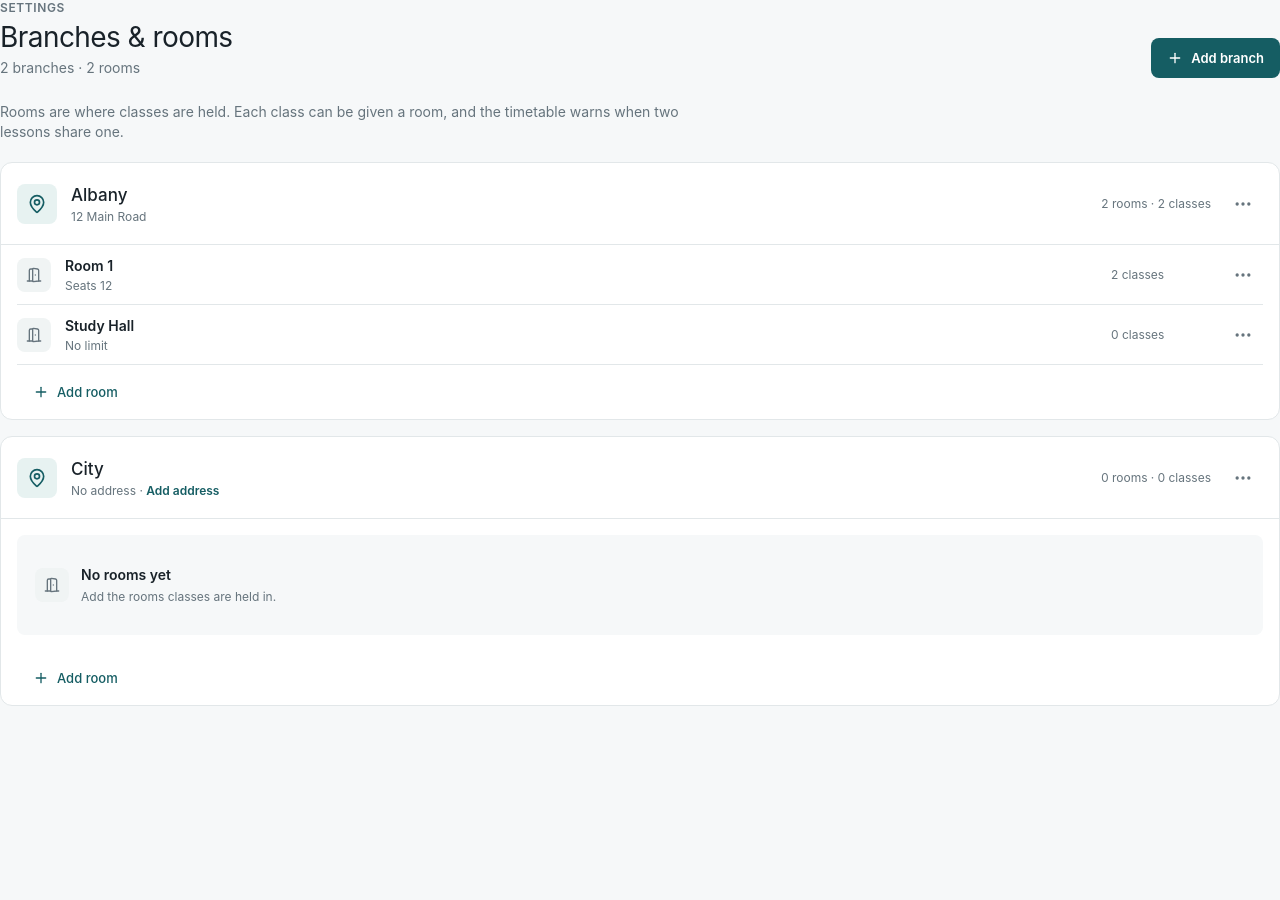
Test: deleting › names the classes held in a room before it can go
Click the button named "Actions for Room 1": (1243, 274) [1223, 254, 1263, 294]
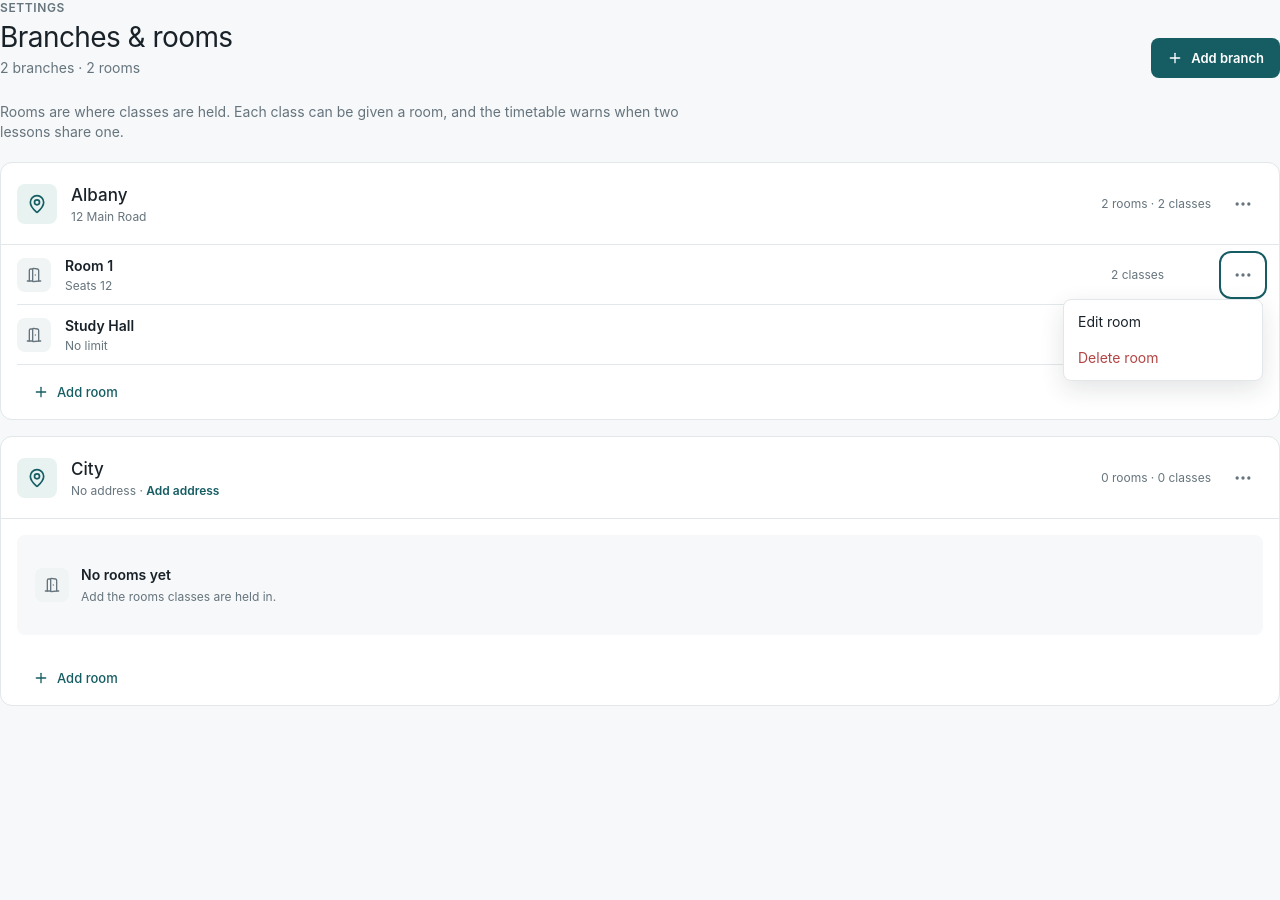
Click the menu item "Delete room": (1163, 358) [1068, 340, 1258, 376]
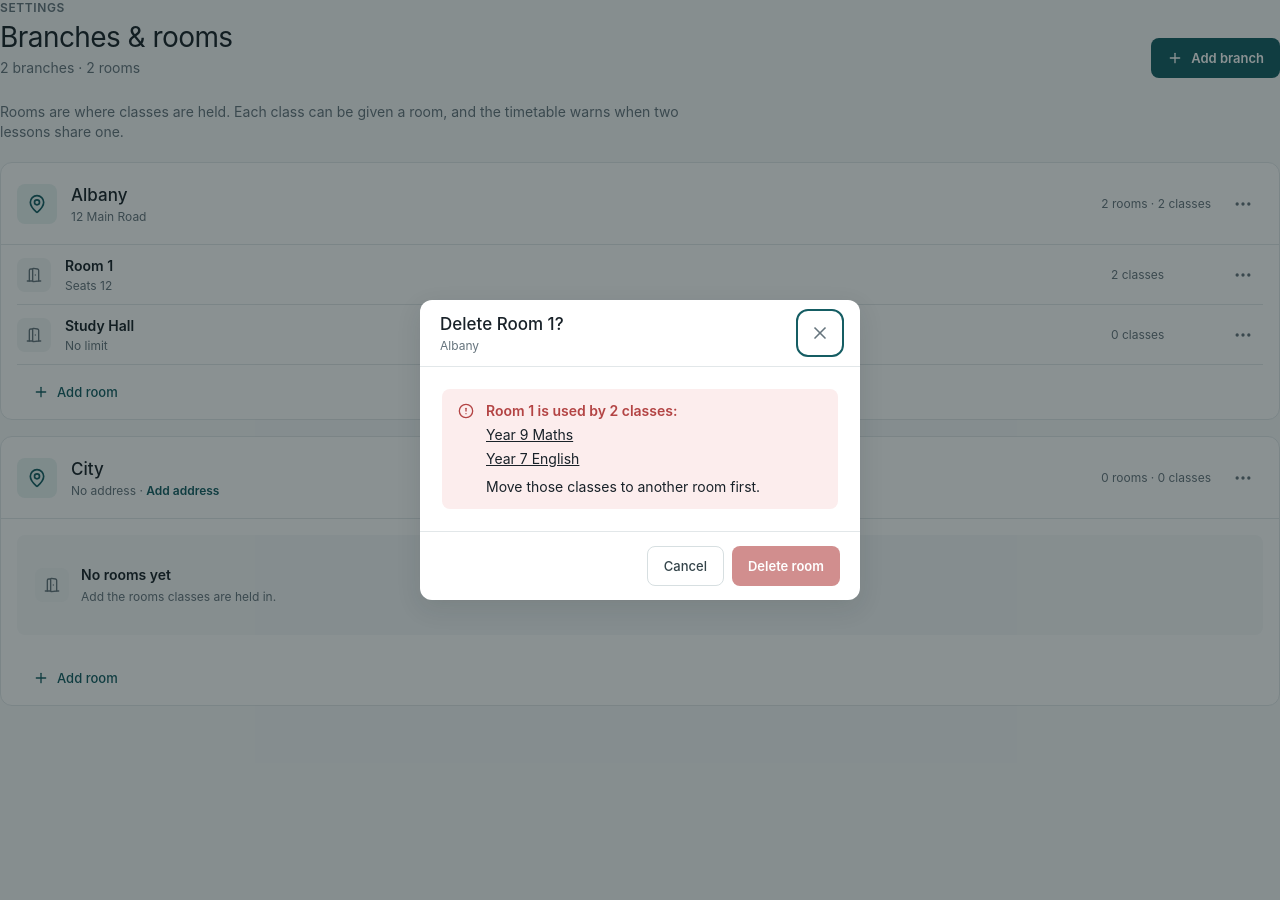
Expected: the button "Delete room" is disabled, [732, 546, 840, 586]
Click the button "Cancel": (685, 566) [647, 546, 724, 586]
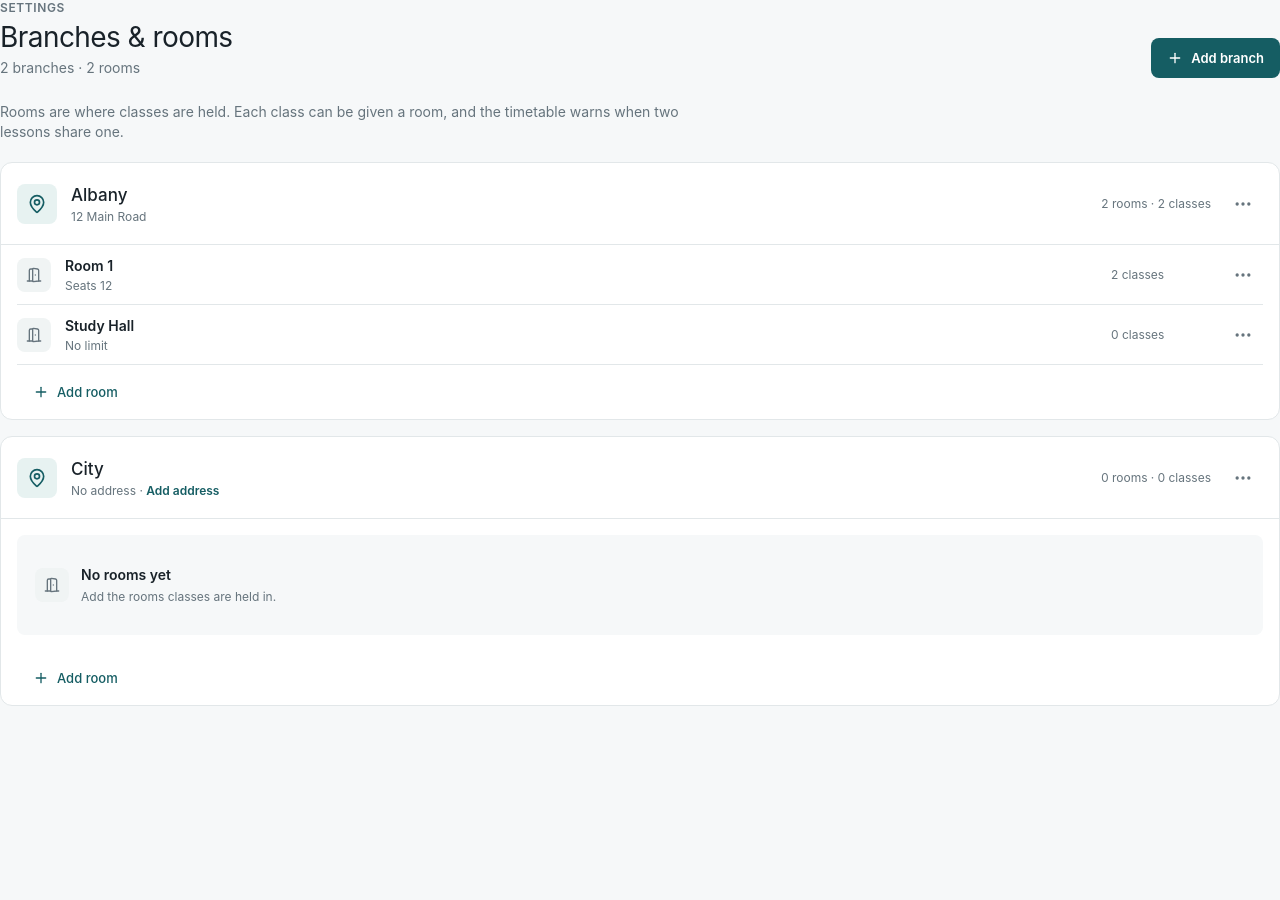
Click the button named "Actions for Study Hall": (1243, 334) [1223, 314, 1263, 354]
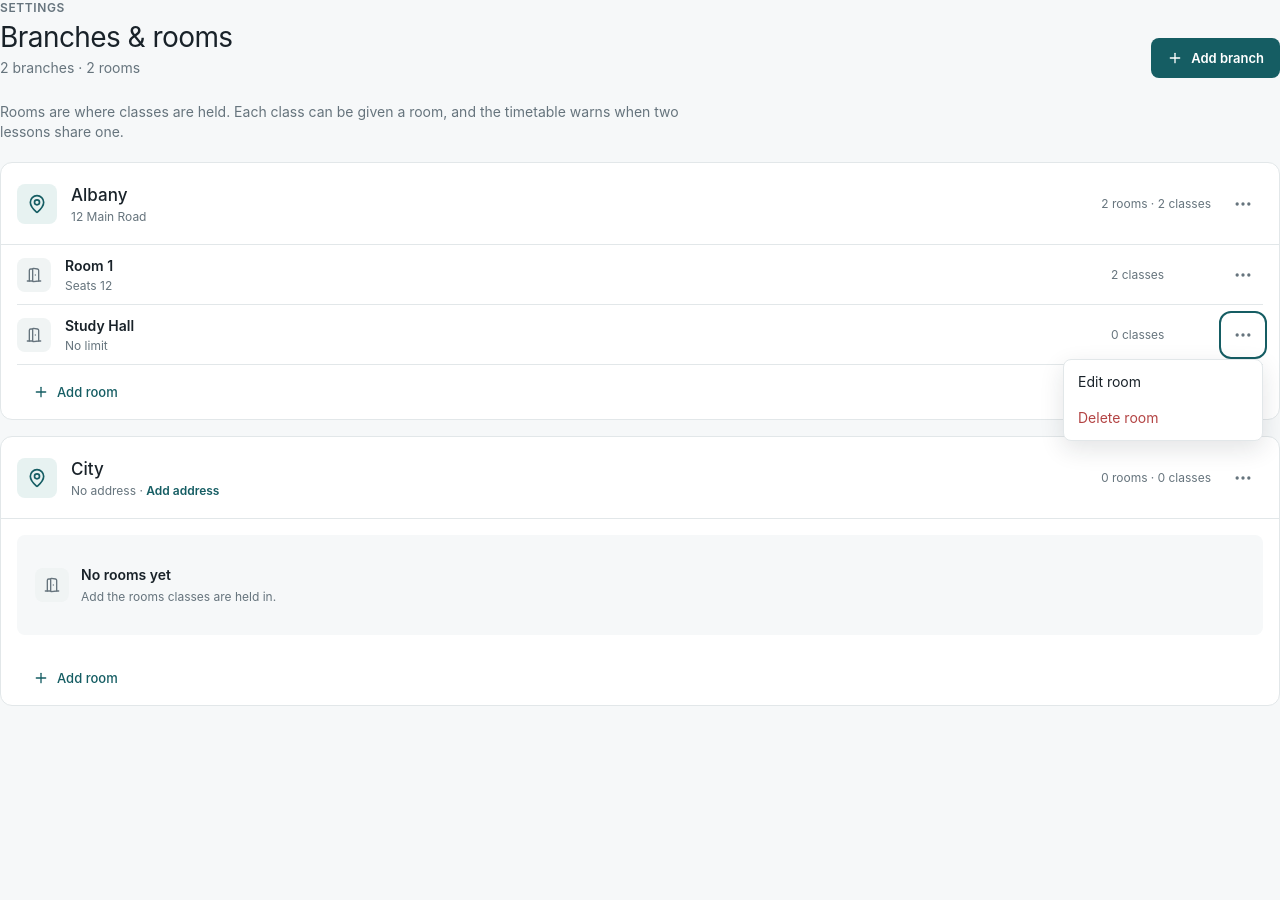
Click the menu item "Delete room": (1163, 418) [1068, 400, 1258, 436]
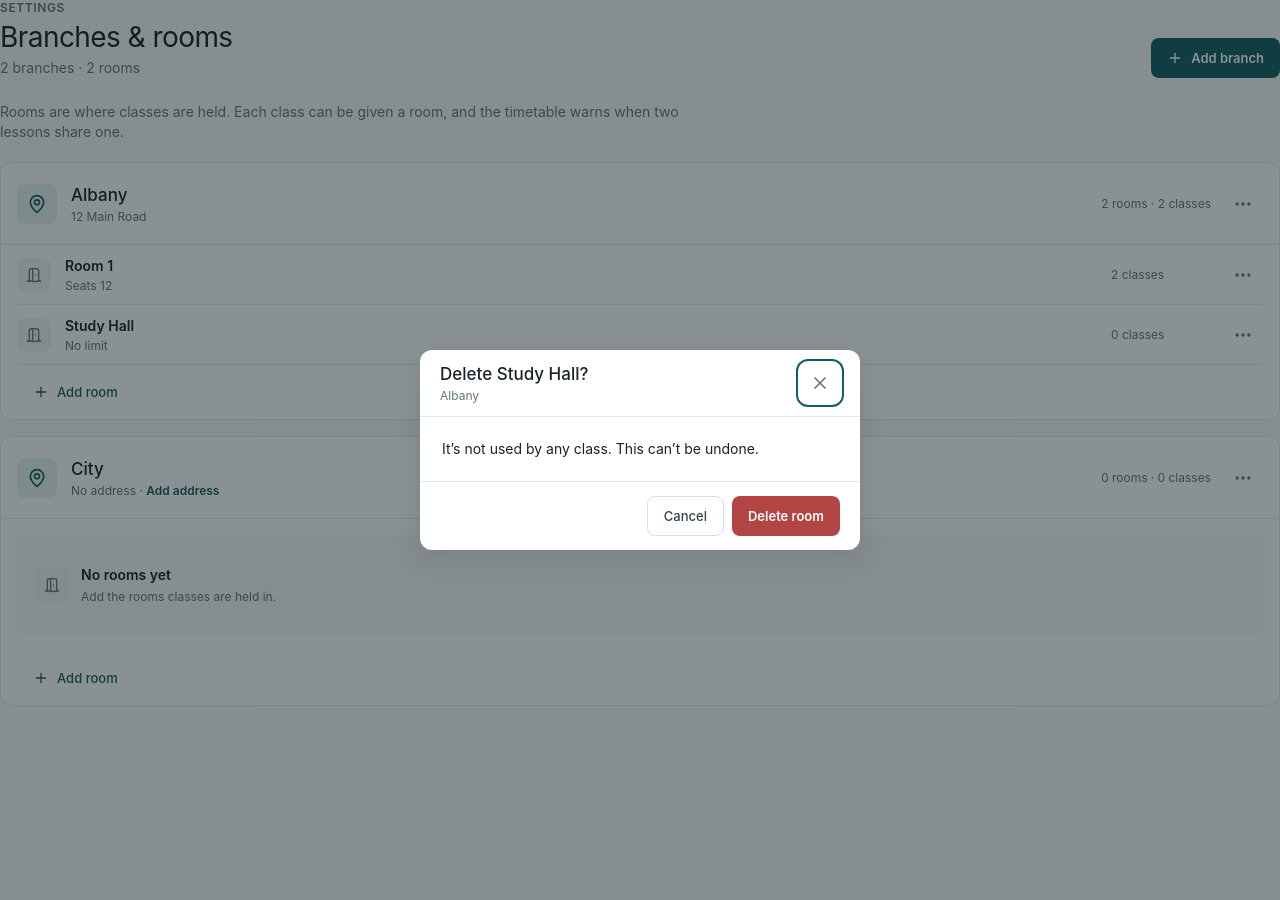
Click the button "Delete room": (786, 516) [732, 496, 840, 536]
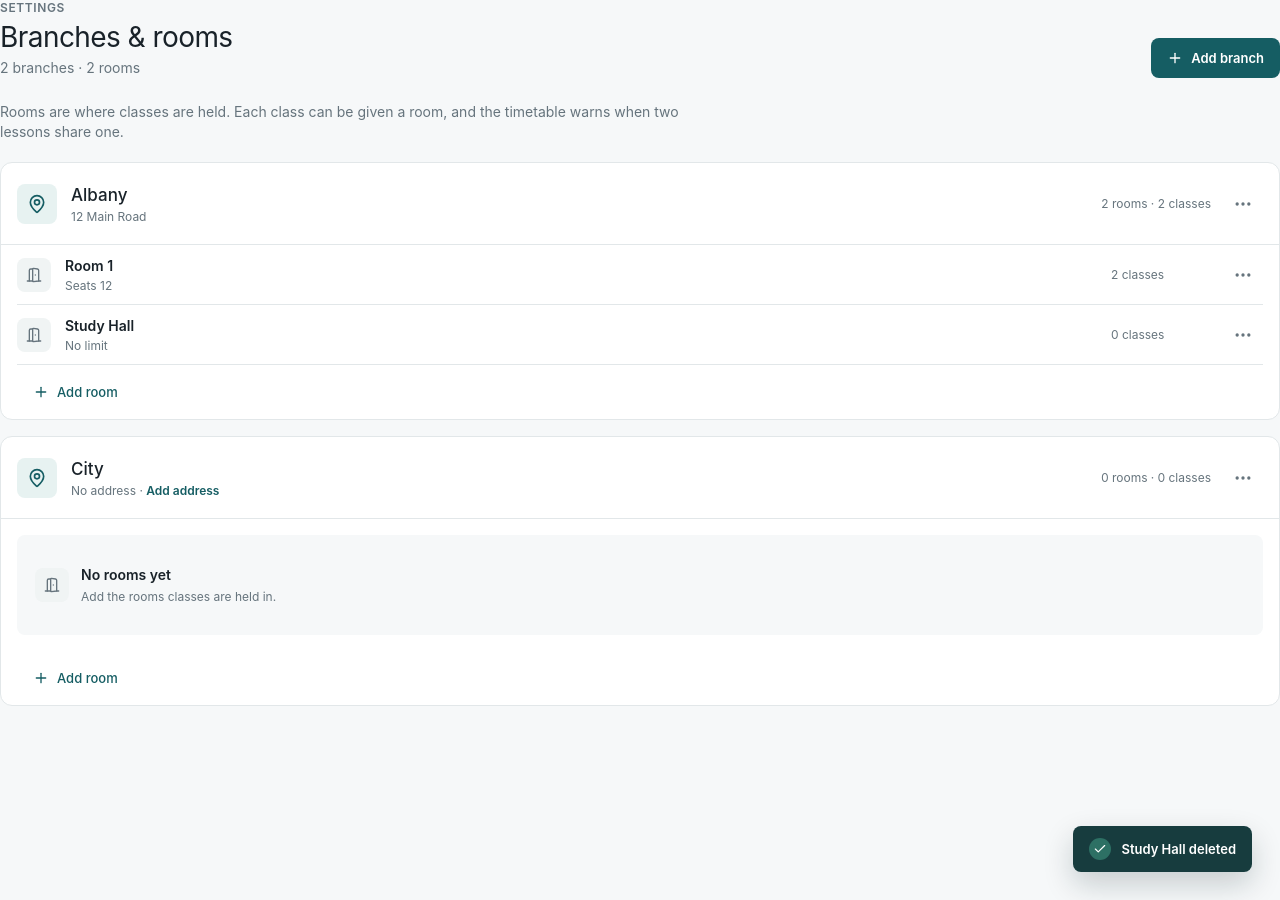
Expected: the text "Study Hall deleted" is shown, [1074, 826, 1252, 872]
